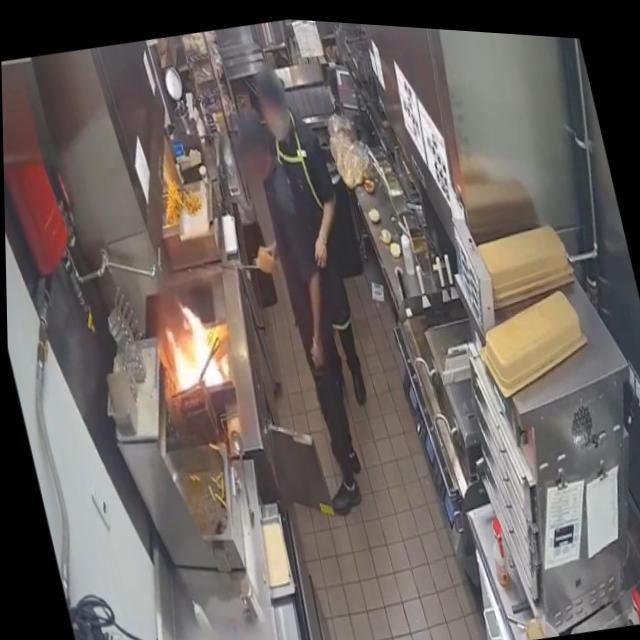fire: (148, 283, 230, 396)
